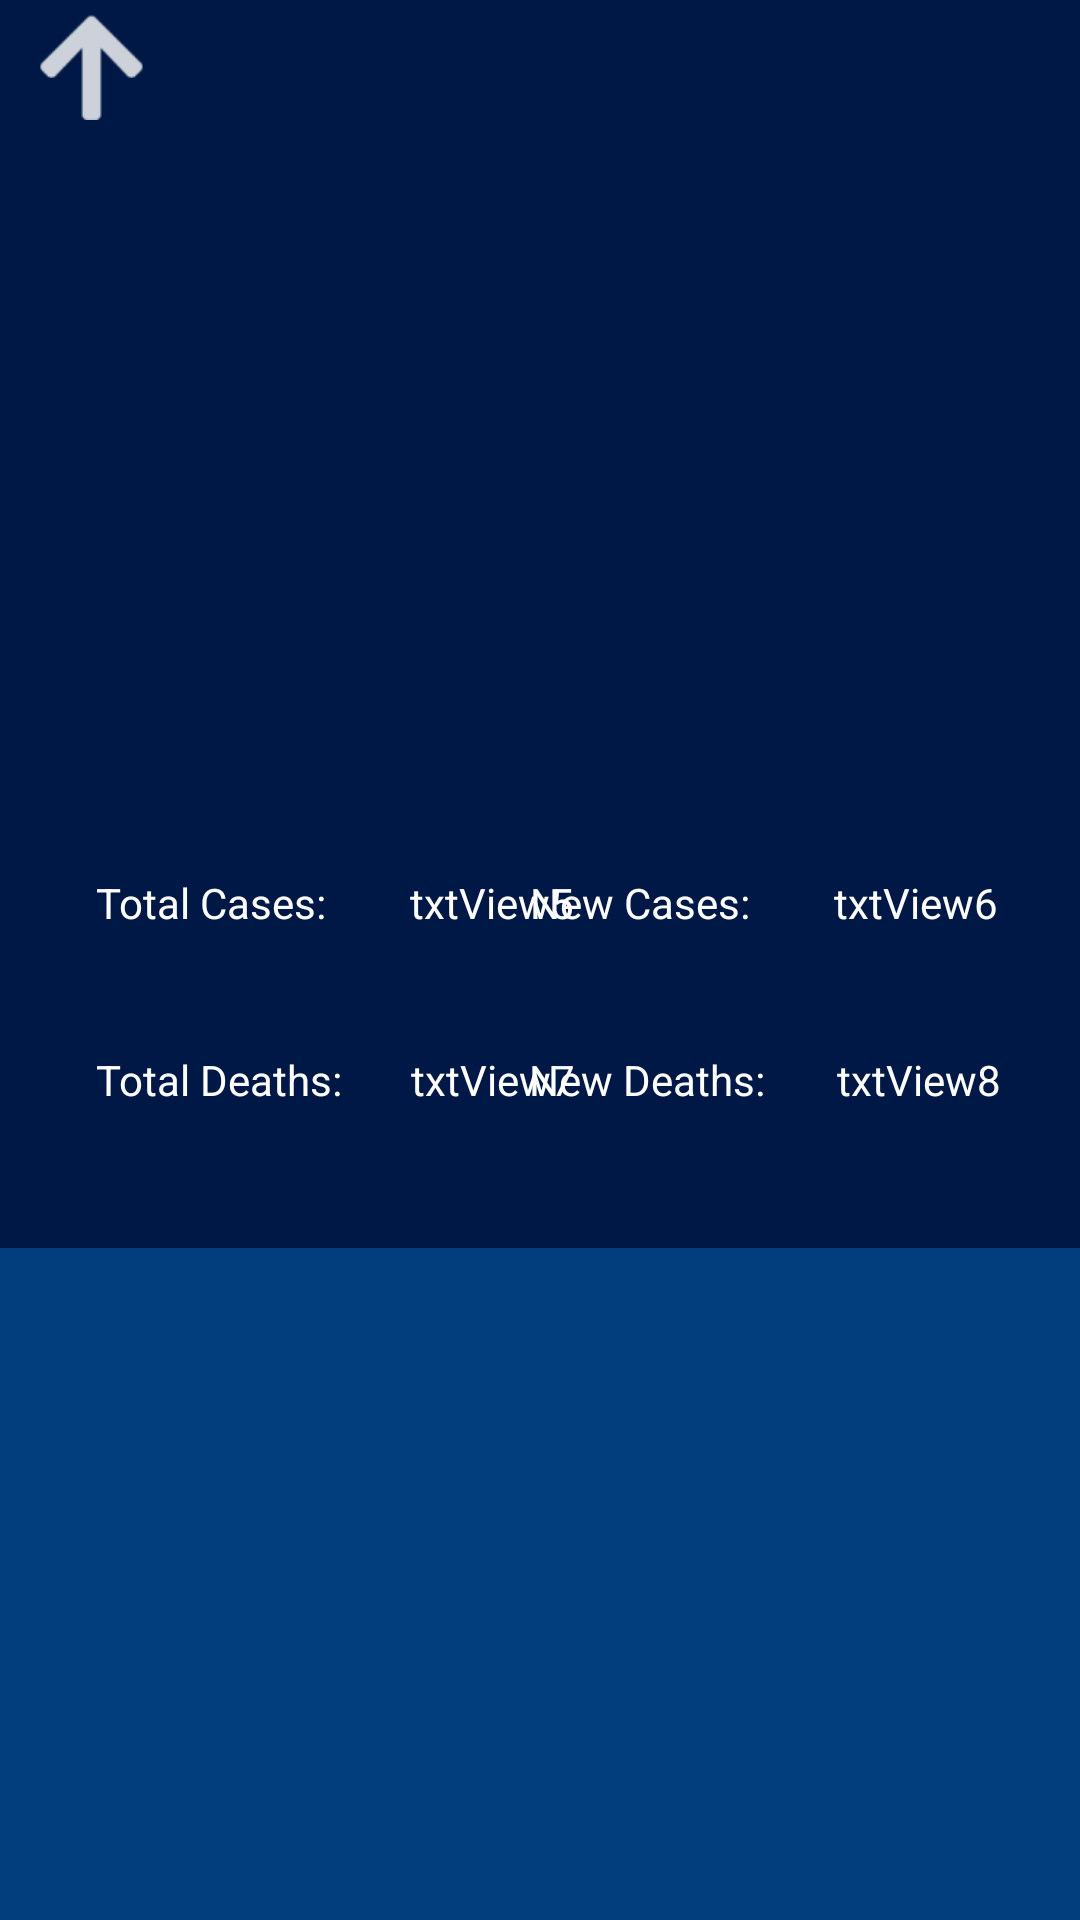

Icon click points for this 1080w x 1920h phone screenshot, format (x=x, y=y):
arrowup: (x=91, y=67)
